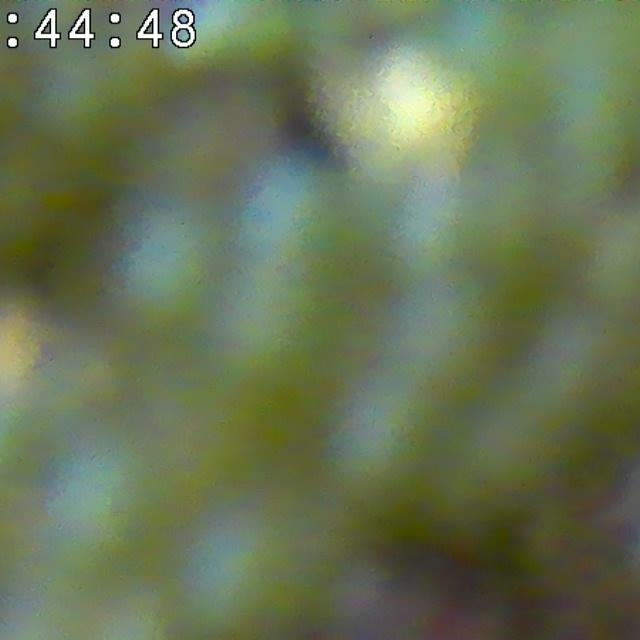SeaGrape: (21, 423, 163, 577), (171, 513, 329, 640), (219, 144, 350, 285), (109, 198, 245, 328), (319, 389, 453, 519), (232, 270, 360, 393), (16, 37, 132, 161), (190, 0, 303, 81), (581, 577, 640, 640)
